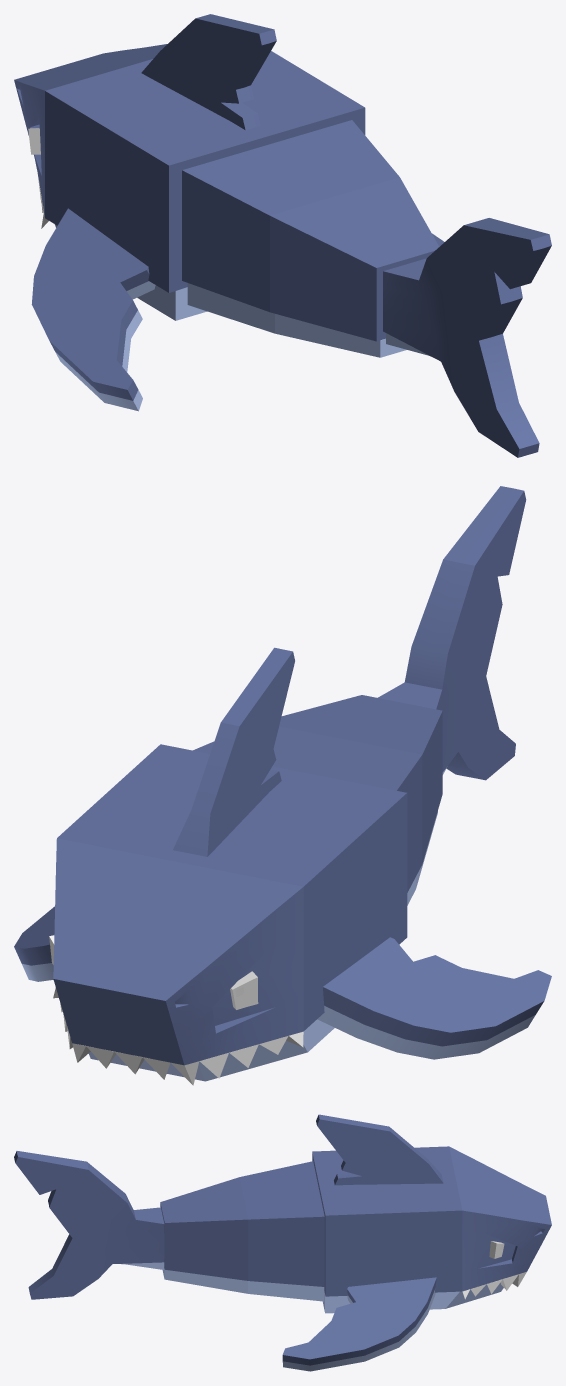
The model's file is megalodon.obj.
3 views of the same model, one above another, from view 1: azimuth 30°, elevation 25°; view 2: azimuth 150°, elevation 25°; view 3: azimuth 270°, elevation 25° (orthographic). The views are drawn at different scales.
Parts seen in each view (by area): view 1: Torso, Tail, TailTip, LeftArm; view 2: Torso, TailTip, LeftArm, Tail, RightArm, Jaw; view 3: Torso, Tail, TailTip, RightArm, Jaw.
Boxes of the visible parts, x1,y1,x2,y2 form: Torso: [14, 14, 365, 320]; Tail: [182, 120, 439, 357]; TailTip: [383, 218, 551, 457]; LeftArm: [31, 208, 155, 411]; Torso: [49, 647, 407, 1085]; TailTip: [378, 486, 526, 780]; LeftArm: [317, 937, 551, 1059]; Tail: [193, 695, 442, 905]; RightArm: [14, 906, 54, 981]; Jaw: [88, 1041, 307, 1081]; Torso: [312, 1114, 551, 1313]; Tail: [160, 1161, 324, 1301]; TailTip: [14, 1151, 164, 1299]; RightArm: [282, 1277, 436, 1371]; Jaw: [445, 1282, 503, 1308].
Bounding box in the file's own units: 14.05 × 10.04 × 25.16.
